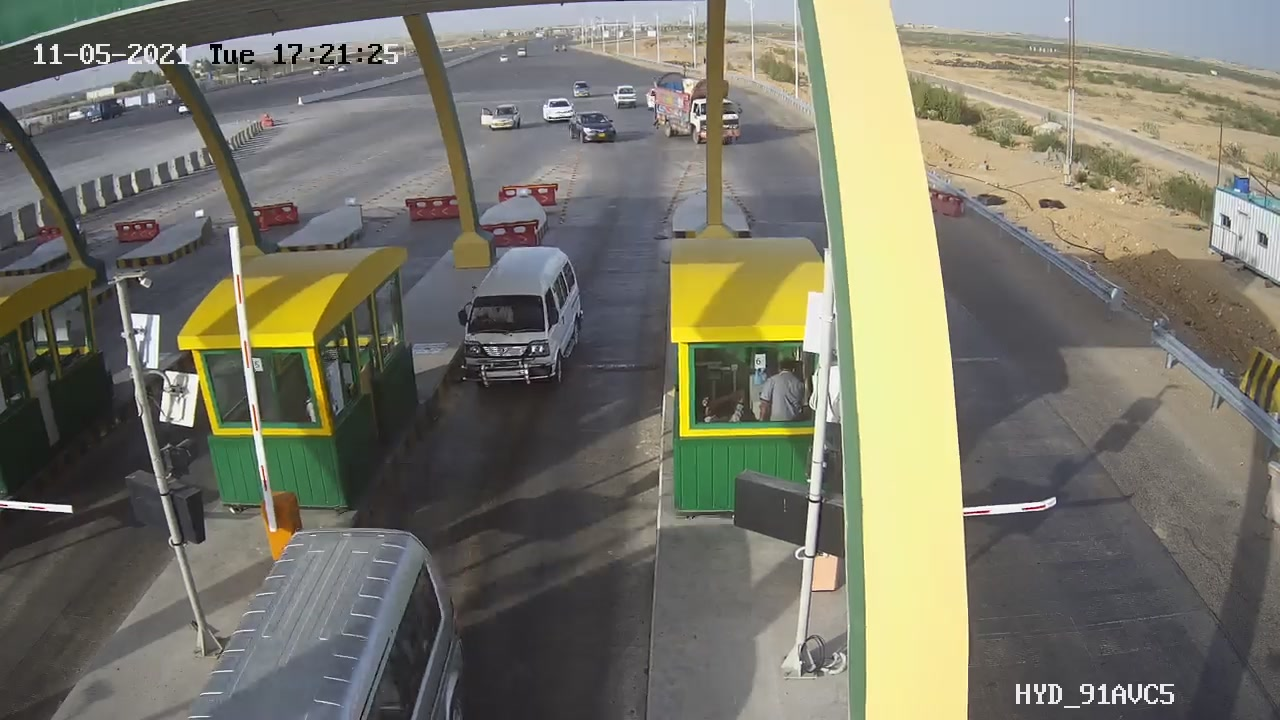F1: (446, 234, 598, 407)
